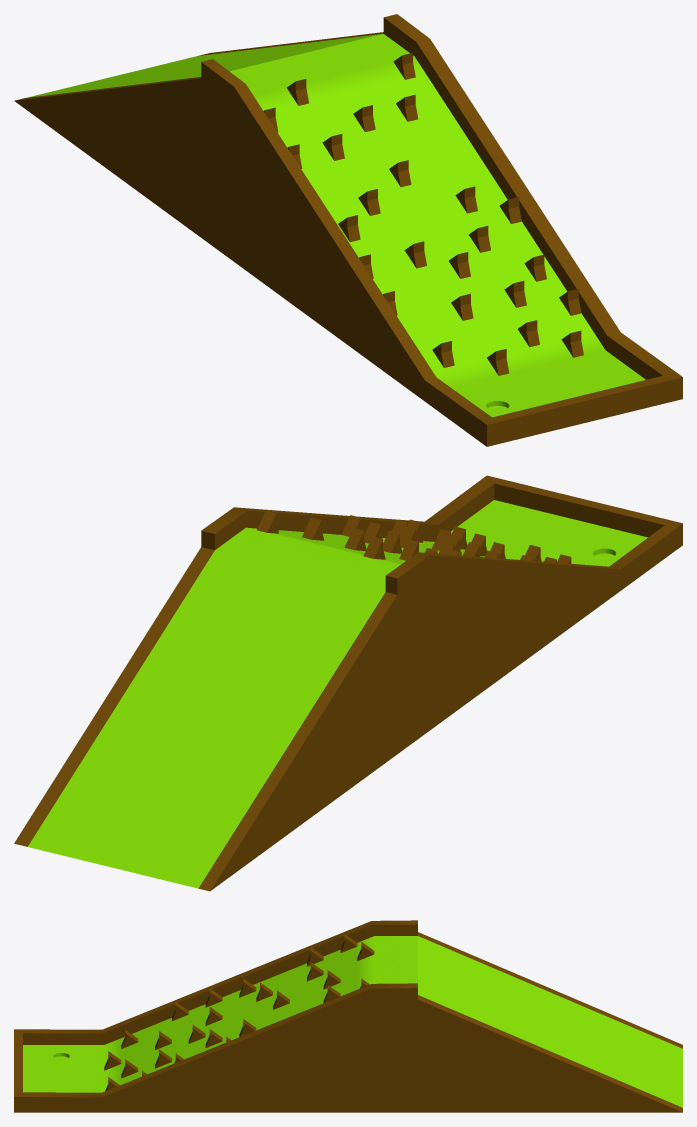
Rendered from Hole5.fbx.
3 views of the same model, one above another, from view 1: azimuth 30°, elevation 25°; view 2: azimuth 150°, elevation 25°; view 3: azimuth 270°, elevation 25° (orthographic). The views are drawn at different scales.
Visible parts, largest first — view 1: pCube5; view 2: pCube5; view 3: pCube5.
Part boxes in pixels (x1=…): pCube5: x1=14, y1=14, x2=682, y2=446; pCube5: x1=14, y1=475, x2=682, y2=891; pCube5: x1=14, y1=920, x2=682, y2=1112.
Bounding box in the file's own units: 49.2 × 42.19 × 206.
